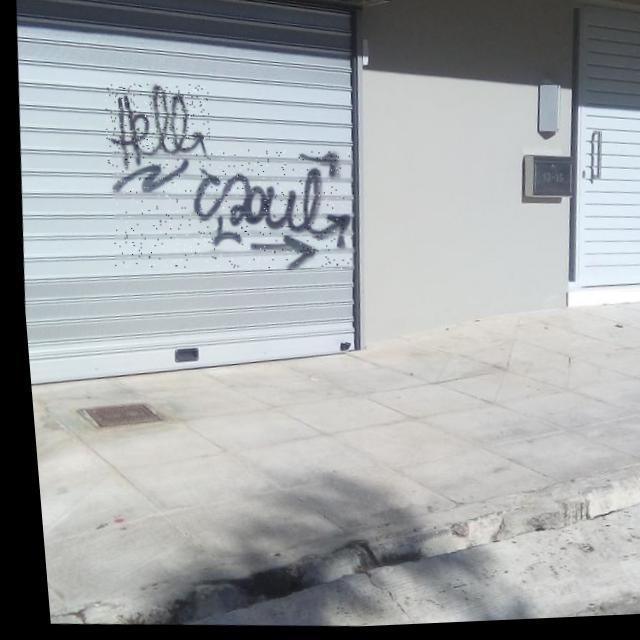-: (103, 142, 357, 280), (99, 81, 212, 173)
